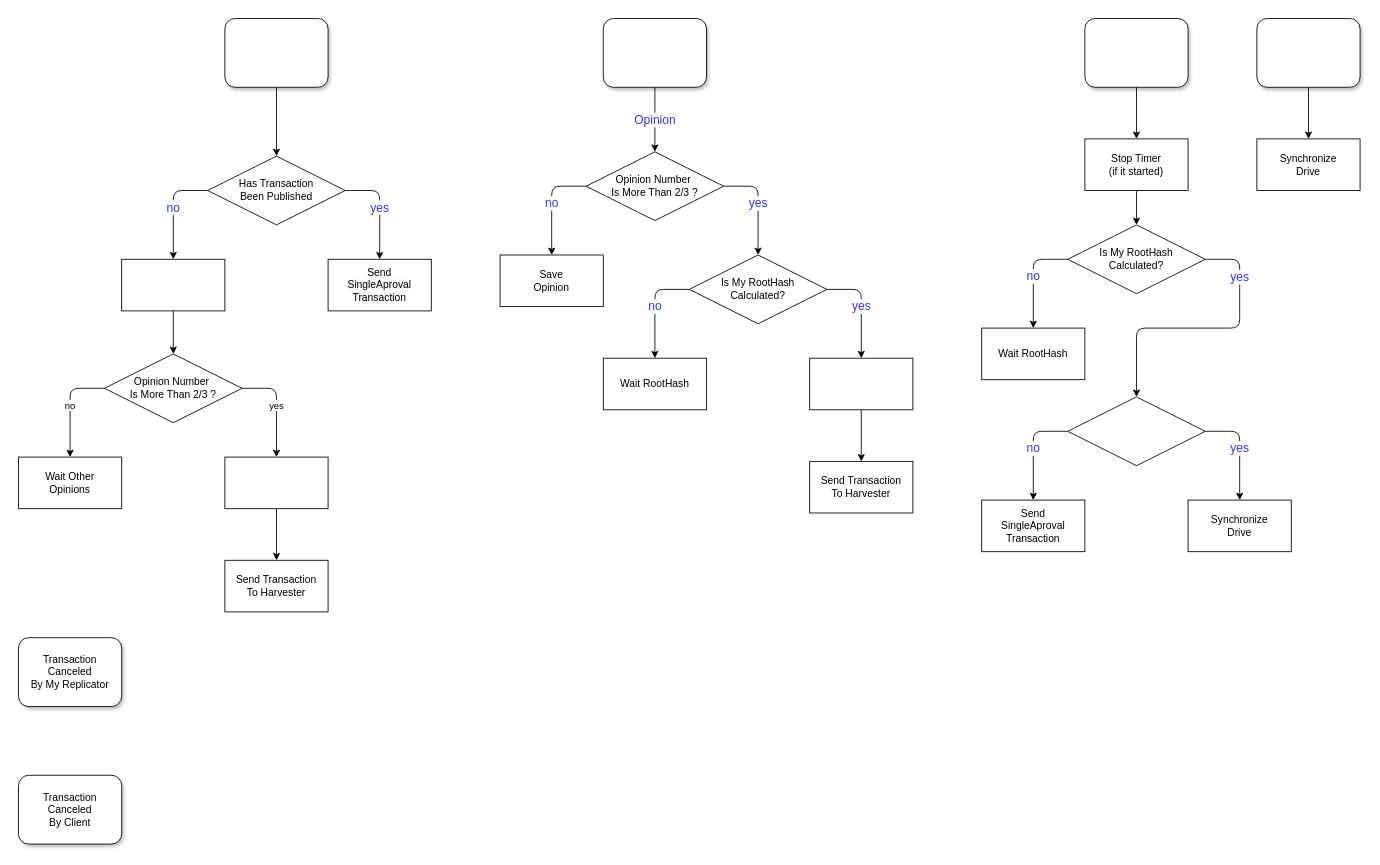
This 1380x865 diagram has some shape labels left out. The centre of each missing label's shape, as x and y in pixels:
"Is My Opinion Present?" belongs at point 1136,431.
"ModifyApproval Transaction Published" belongs at point 1137,53.
"My RootHash Calulated" belongs at point 277,53.
"Other Opinion Received" belongs at point 655,53.
"Send My Opinion To Other Replicators" belongs at point 173,284.
"Single ModifyApproval Transaction Published" belongs at point 1309,53.
"Start Timer" belongs at point 276,482.
"Start Timer (if not started)" belongs at point 861,383.
